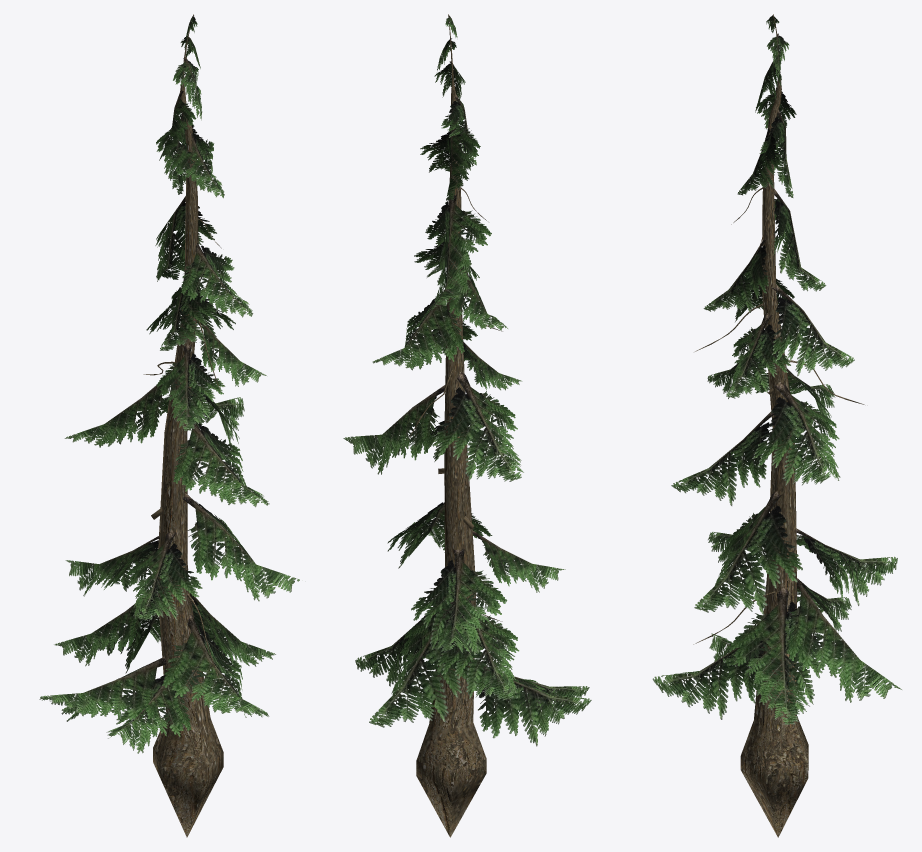
The model's file is Tree - Spruce B-SIA2lHqf.glb.
3 renders of one model, left to right at view 1: azimuth 30°, elevation 25°; view 2: azimuth 150°, elevation 25°; view 3: azimuth 270°, elevation 25°, orthographic.
Visible parts, largest first — view 1: RHE_SpruceB_Leaves, RHE_SpruceB_Trunk; view 2: RHE_SpruceB_Leaves, RHE_SpruceB_Trunk; view 3: RHE_SpruceB_Leaves, RHE_SpruceB_Trunk.
Boxes of the visible parts, x1,y1,x2,y2 form: RHE_SpruceB_Leaves: (39,15,299,753); RHE_SpruceB_Trunk: (143,14,223,837); RHE_SpruceB_Leaves: (343,15,591,746); RHE_SpruceB_Trunk: (408,14,502,837); RHE_SpruceB_Leaves: (652,15,901,724); RHE_SpruceB_Trunk: (693,14,864,837).
Size of the model in its own units: 14.69 by 46.18 by 13.17.
2 materials, 2 textured.
